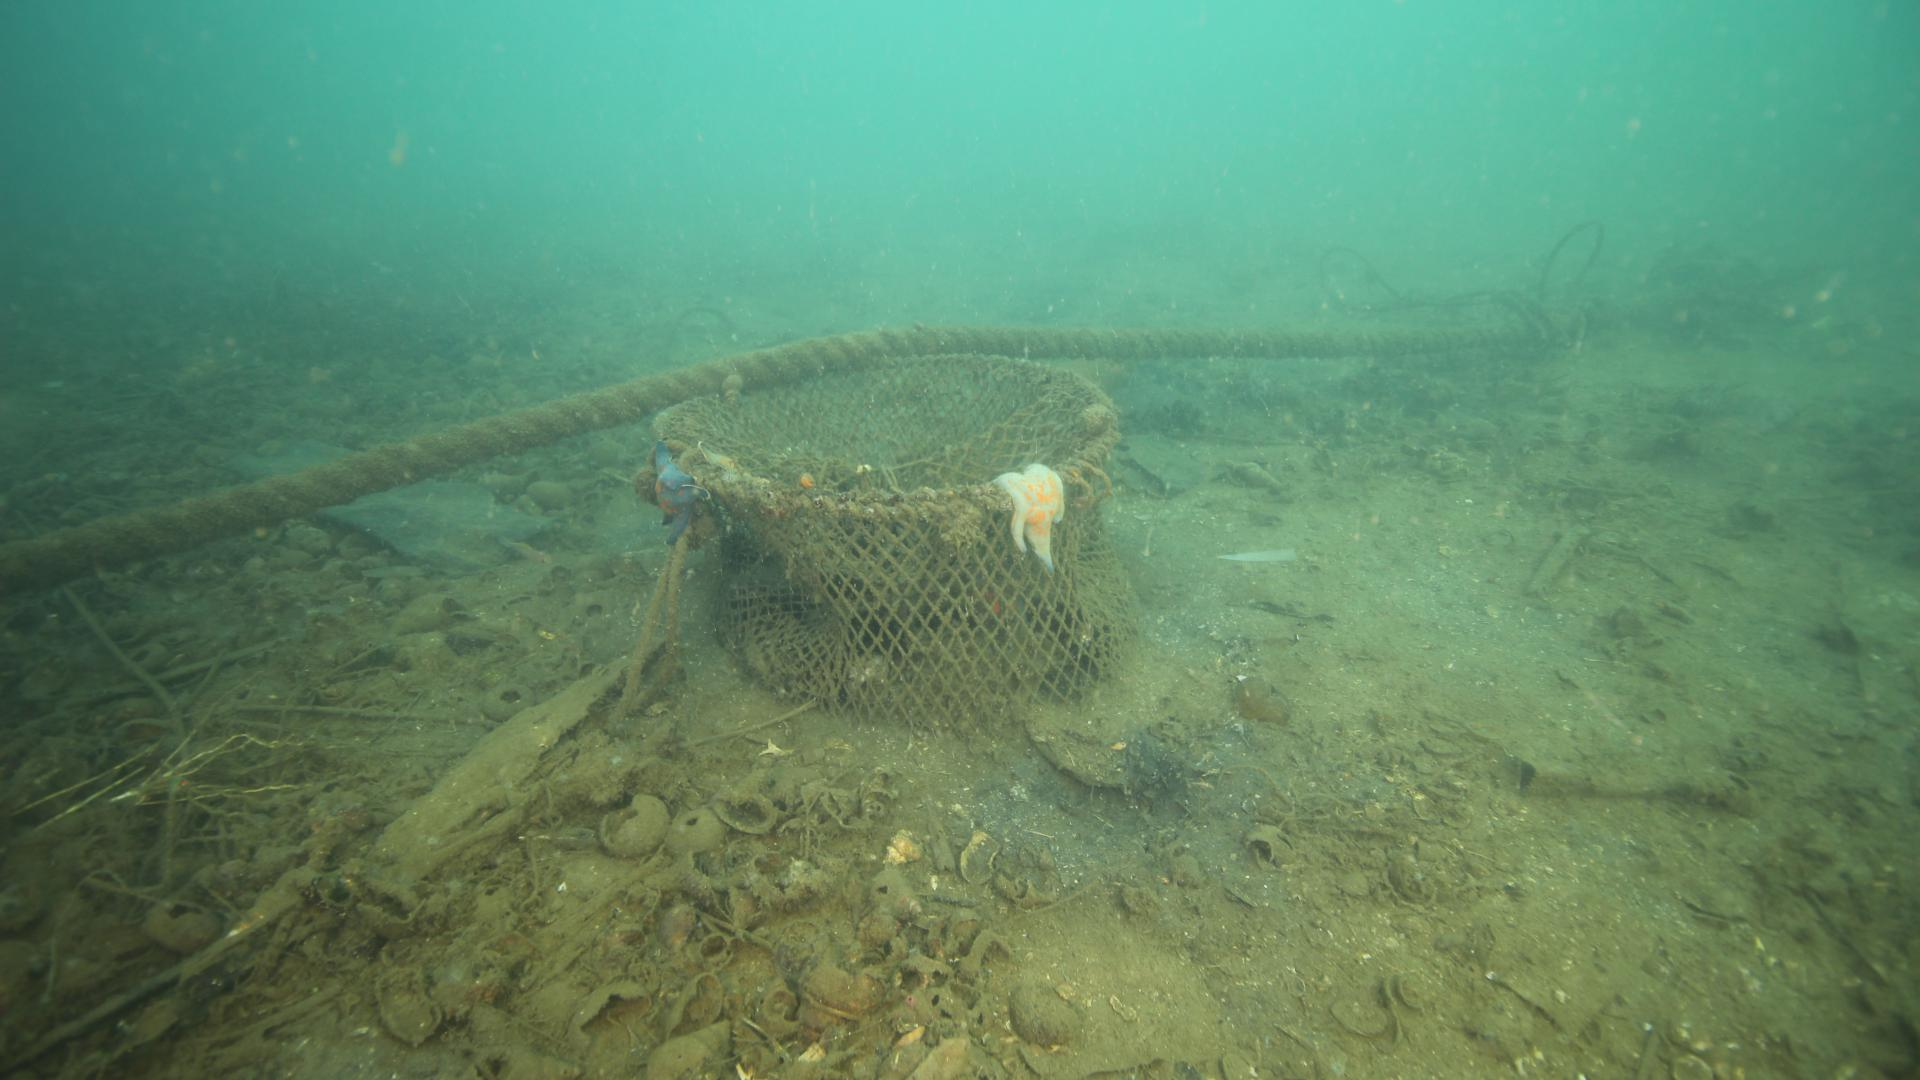circular fish trap: (646, 352, 1121, 732)
rope: (0, 315, 1528, 607)
